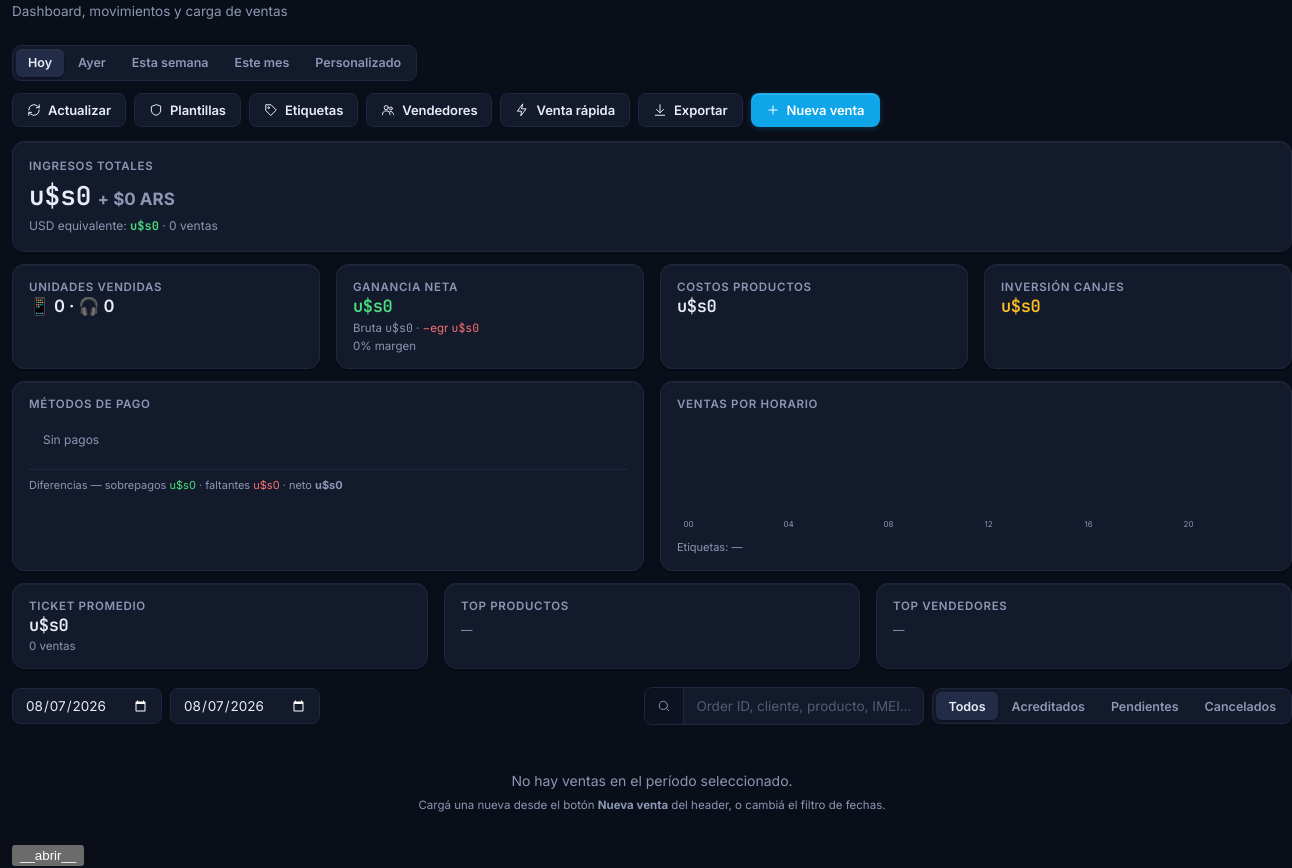
Test: Pantalla Ventas › F-07 — filtros persisten en URL › click en "Este mes" agrega ?periodo=mes a la URL
// Click el segmento "Este mes".
Click the button "Este mes".
click(262, 63)  # box [223,49,301,77]
(page scrolled)
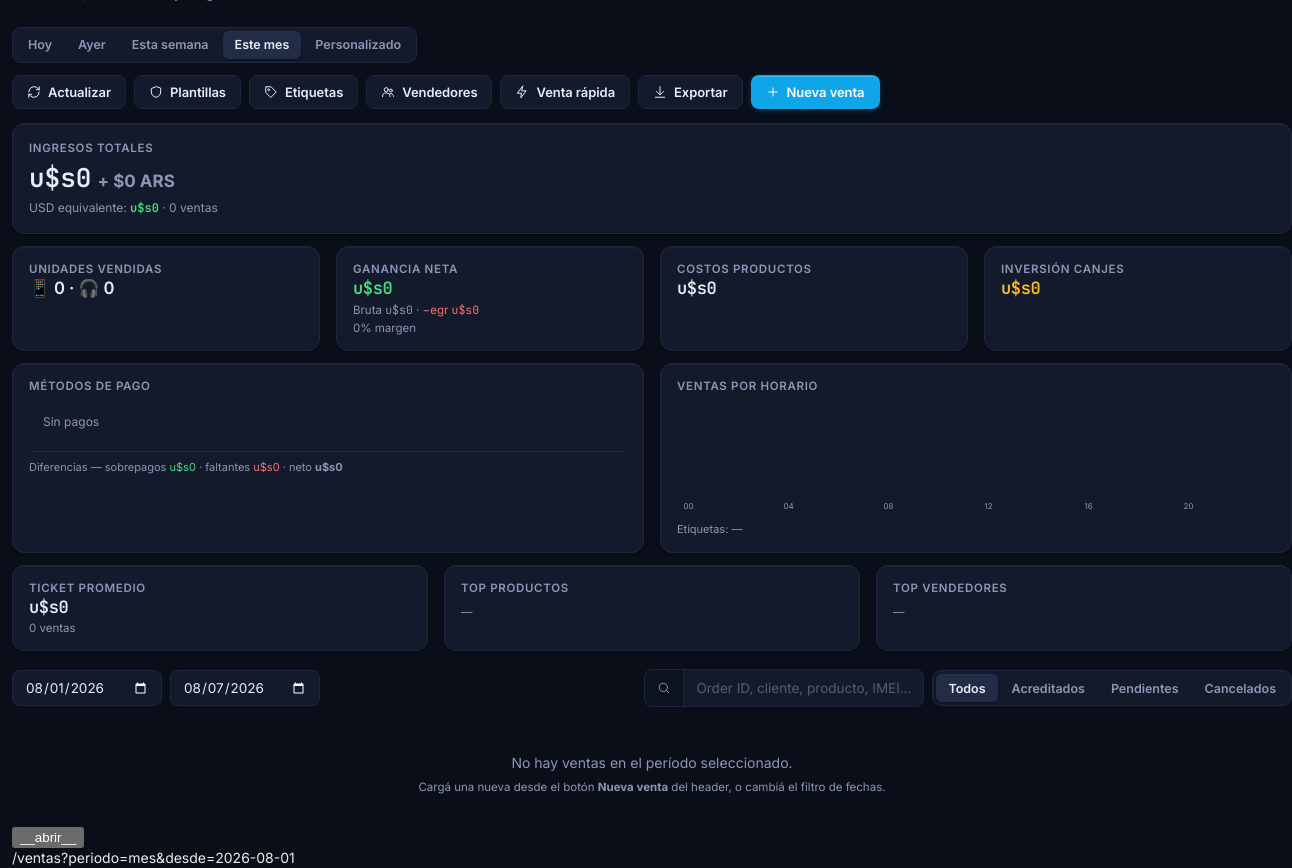
Expected: the text with test id "location" reads "/ventas?periodo=mes&desde=2026-08-01", [61,849,295,866]
